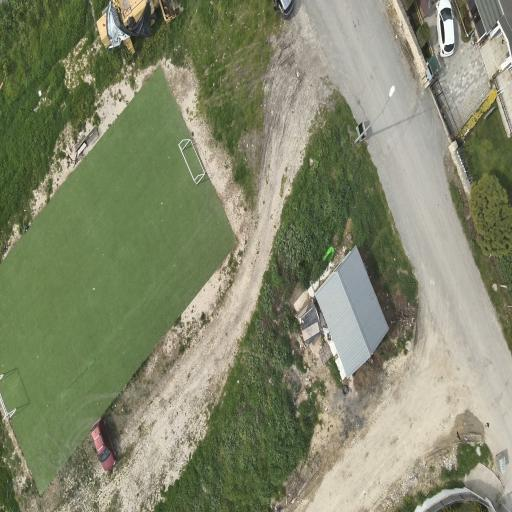car: (91, 419, 115, 471), (436, 0, 454, 57), (274, 0, 294, 18)
